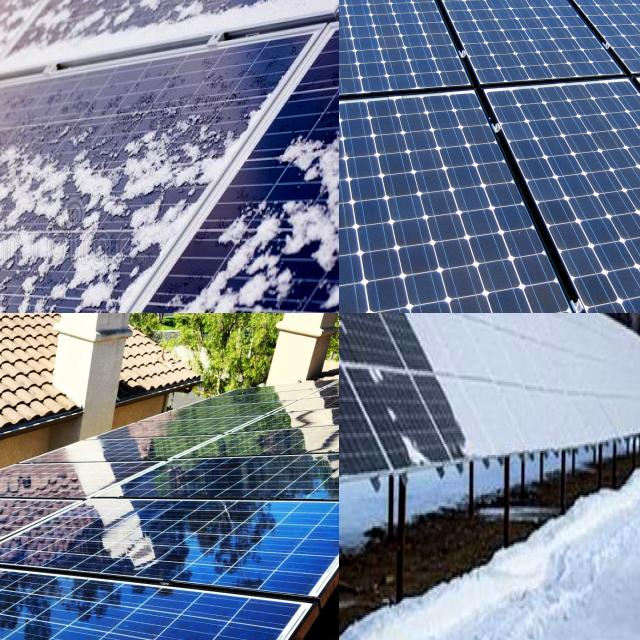crack: (339, 86, 597, 313), (475, 72, 640, 313), (81, 502, 339, 597), (422, 0, 626, 104), (339, 0, 484, 109), (127, 448, 339, 502), (525, 0, 640, 99), (0, 490, 99, 560), (0, 461, 162, 499), (177, 429, 339, 463), (60, 432, 208, 468), (63, 624, 153, 640)
panel: (252, 133, 339, 313), (60, 119, 206, 205), (0, 218, 112, 313), (385, 313, 507, 399), (519, 313, 607, 423), (358, 356, 428, 482), (173, 0, 324, 47), (136, 249, 245, 313), (339, 313, 406, 399), (0, 0, 71, 77), (48, 0, 152, 51), (0, 178, 46, 289), (0, 214, 51, 313), (0, 148, 62, 207), (605, 326, 640, 430), (456, 396, 508, 461), (0, 0, 52, 51), (339, 313, 392, 343), (339, 313, 390, 341), (339, 434, 363, 484)
